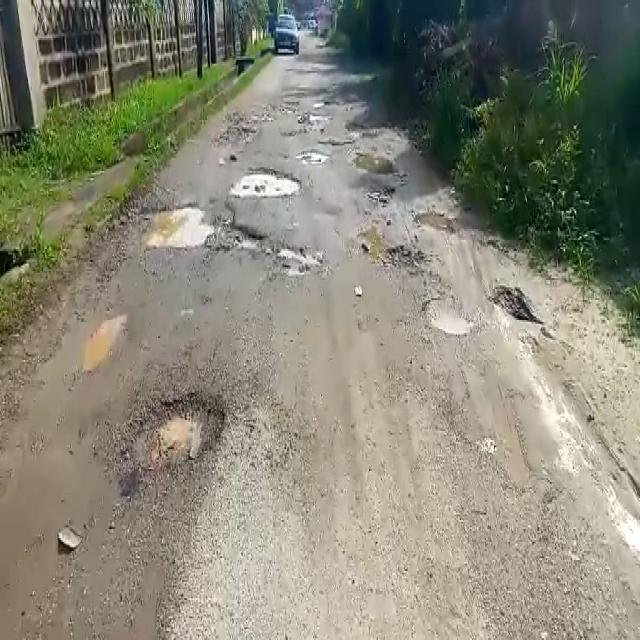Pothole: (124, 389, 230, 491), (233, 217, 326, 280), (143, 206, 218, 250), (230, 164, 303, 198), (423, 290, 479, 333), (300, 149, 330, 162)
